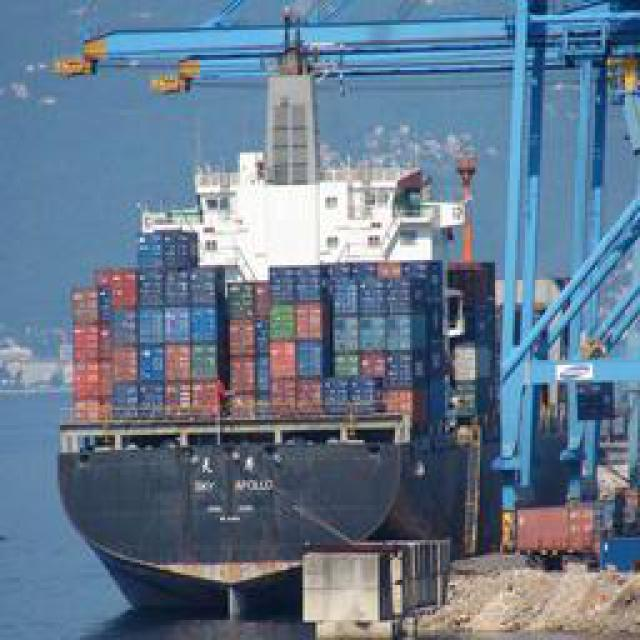Ship: (54, 1, 564, 611)
